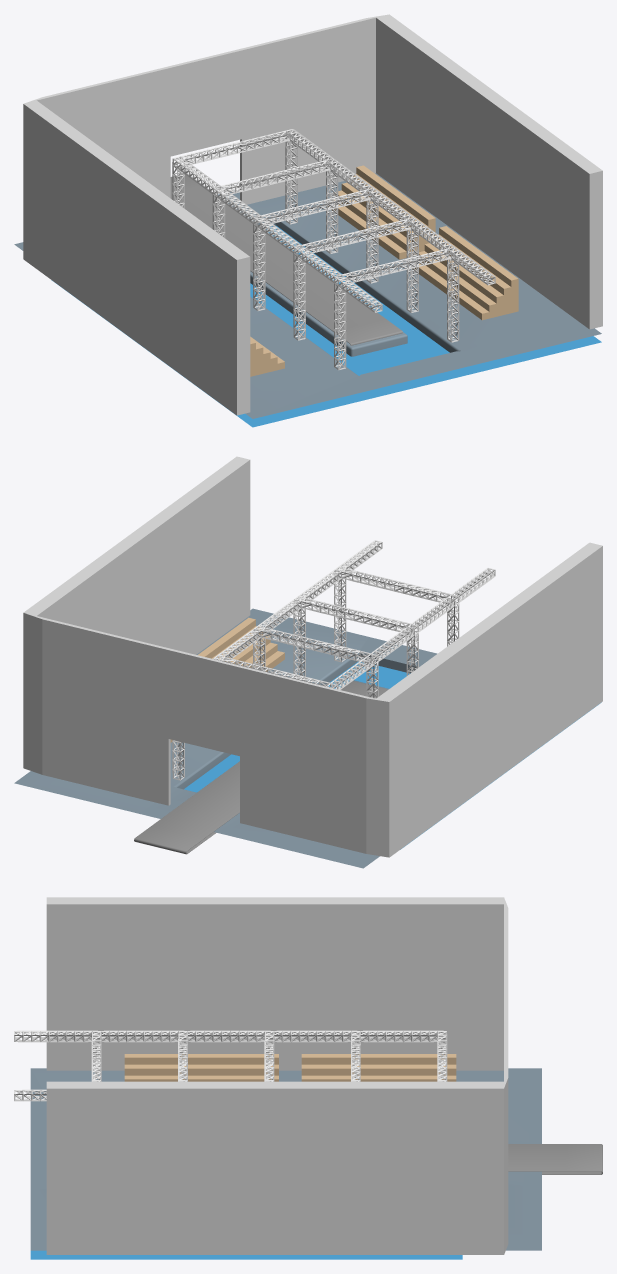
The model's file is TV_studio_blockout.fbx.
3 renders of one model, top to bottom at view 1: azimuth 30°, elevation 25°; view 2: azimuth 150°, elevation 25°; view 3: azimuth 270°, elevation 25°, orthographic. The views are drawn at different scales.
Parts seen in each view (by area): view 1: Cube.017, Plane.004, Cube.016, Cube.014, Plane.005, Cube.018, Cube.015; view 2: Cube.017, Cube.016, Plane.004, Cube.014, Cube.018, Plane.005; view 3: Cube.017, Plane.004, Cube.016, Cube.015, Cube.018, Cube.014, Plane.005.
Boxes of the visible parts, x1,y1,x2,y2 form: Cube.017: (23, 14, 602, 415); Plane.004: (14, 173, 601, 418); Cube.016: (172, 129, 495, 370); Cube.014: (170, 173, 402, 345); Plane.005: (51, 225, 601, 427); Cube.018: (250, 226, 518, 376); Cube.015: (328, 165, 435, 259); Cube.017: (23, 456, 602, 857); Cube.016: (172, 540, 495, 780); Plane.004: (14, 608, 437, 868); Cube.014: (134, 681, 387, 854); Cube.018: (197, 617, 284, 671); Plane.005: (184, 661, 601, 849); Cube.017: (46, 897, 508, 1254); Plane.004: (30, 1068, 541, 1250); Cube.016: (14, 1030, 447, 1101); Cube.015: (301, 1054, 456, 1081); Cube.018: (124, 1054, 278, 1081); Cube.014: (508, 1144, 602, 1174); Plane.005: (30, 1250, 462, 1259).
Bounding box in the file's own units: 3129 × 1474 × 4071.
